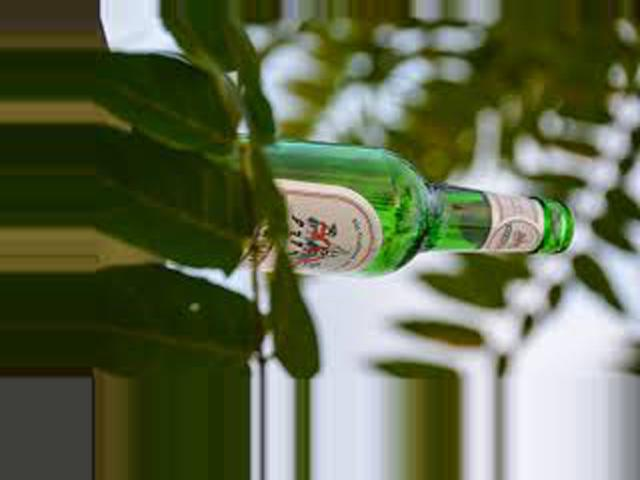beer: (230, 143, 572, 275)
